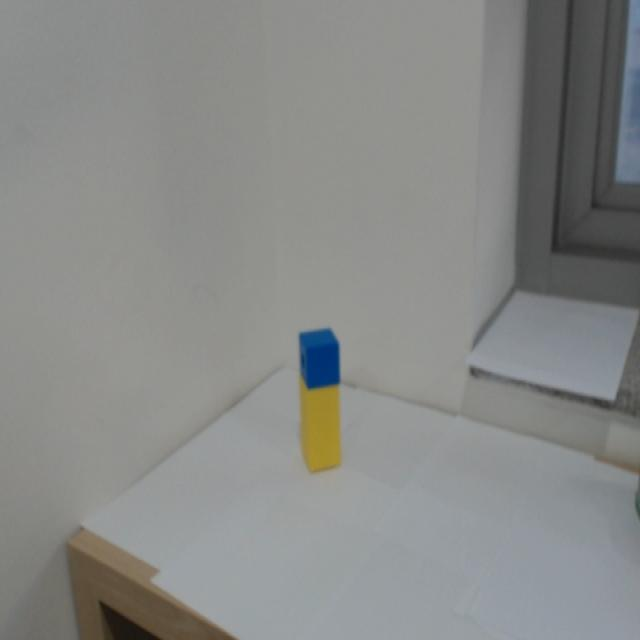cube: (298, 326, 342, 389)
